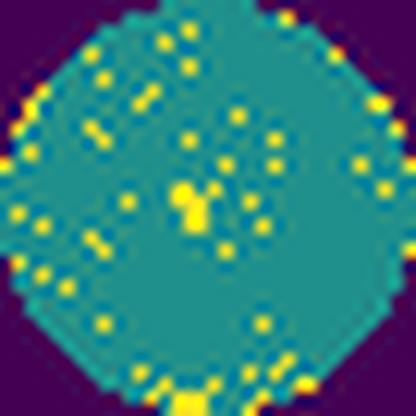Center: (166, 172, 233, 242)
